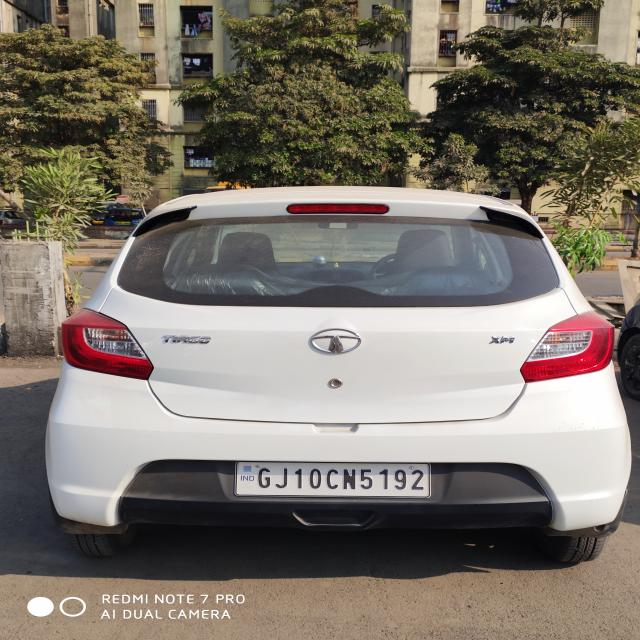Number-Plate: (230, 461, 432, 496)
